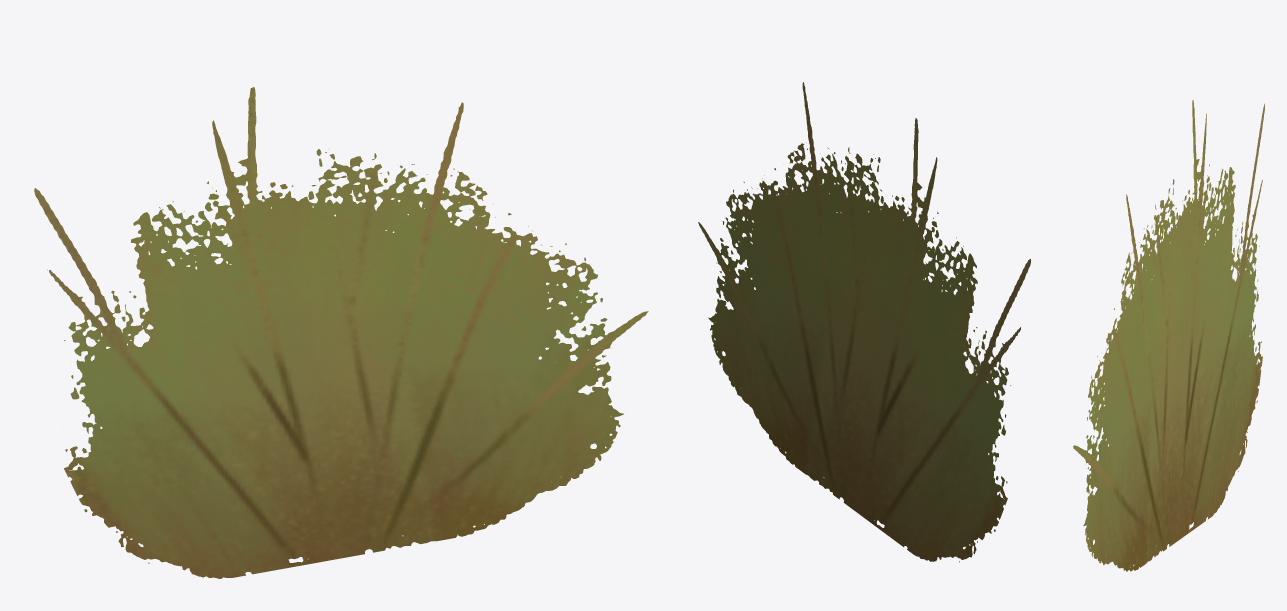
Rendered from bush1.fbx.
3 renders of one model, left to right at view 1: azimuth 30°, elevation 25°; view 2: azimuth 150°, elevation 25°; view 3: azimuth 270°, elevation 25°, orthographic. The views are drawn at different scales.
Parts seen in each view (by area): view 1: bush1; view 2: bush1; view 3: bush1.
Boxes of the visible parts, x1,y1,x2,y2 form: bush1: (34,87,648,578); bush1: (698,82,1030,562); bush1: (1073,100,1264,571).
Size of the model in its own units: 199 by 208 by 78.8.
